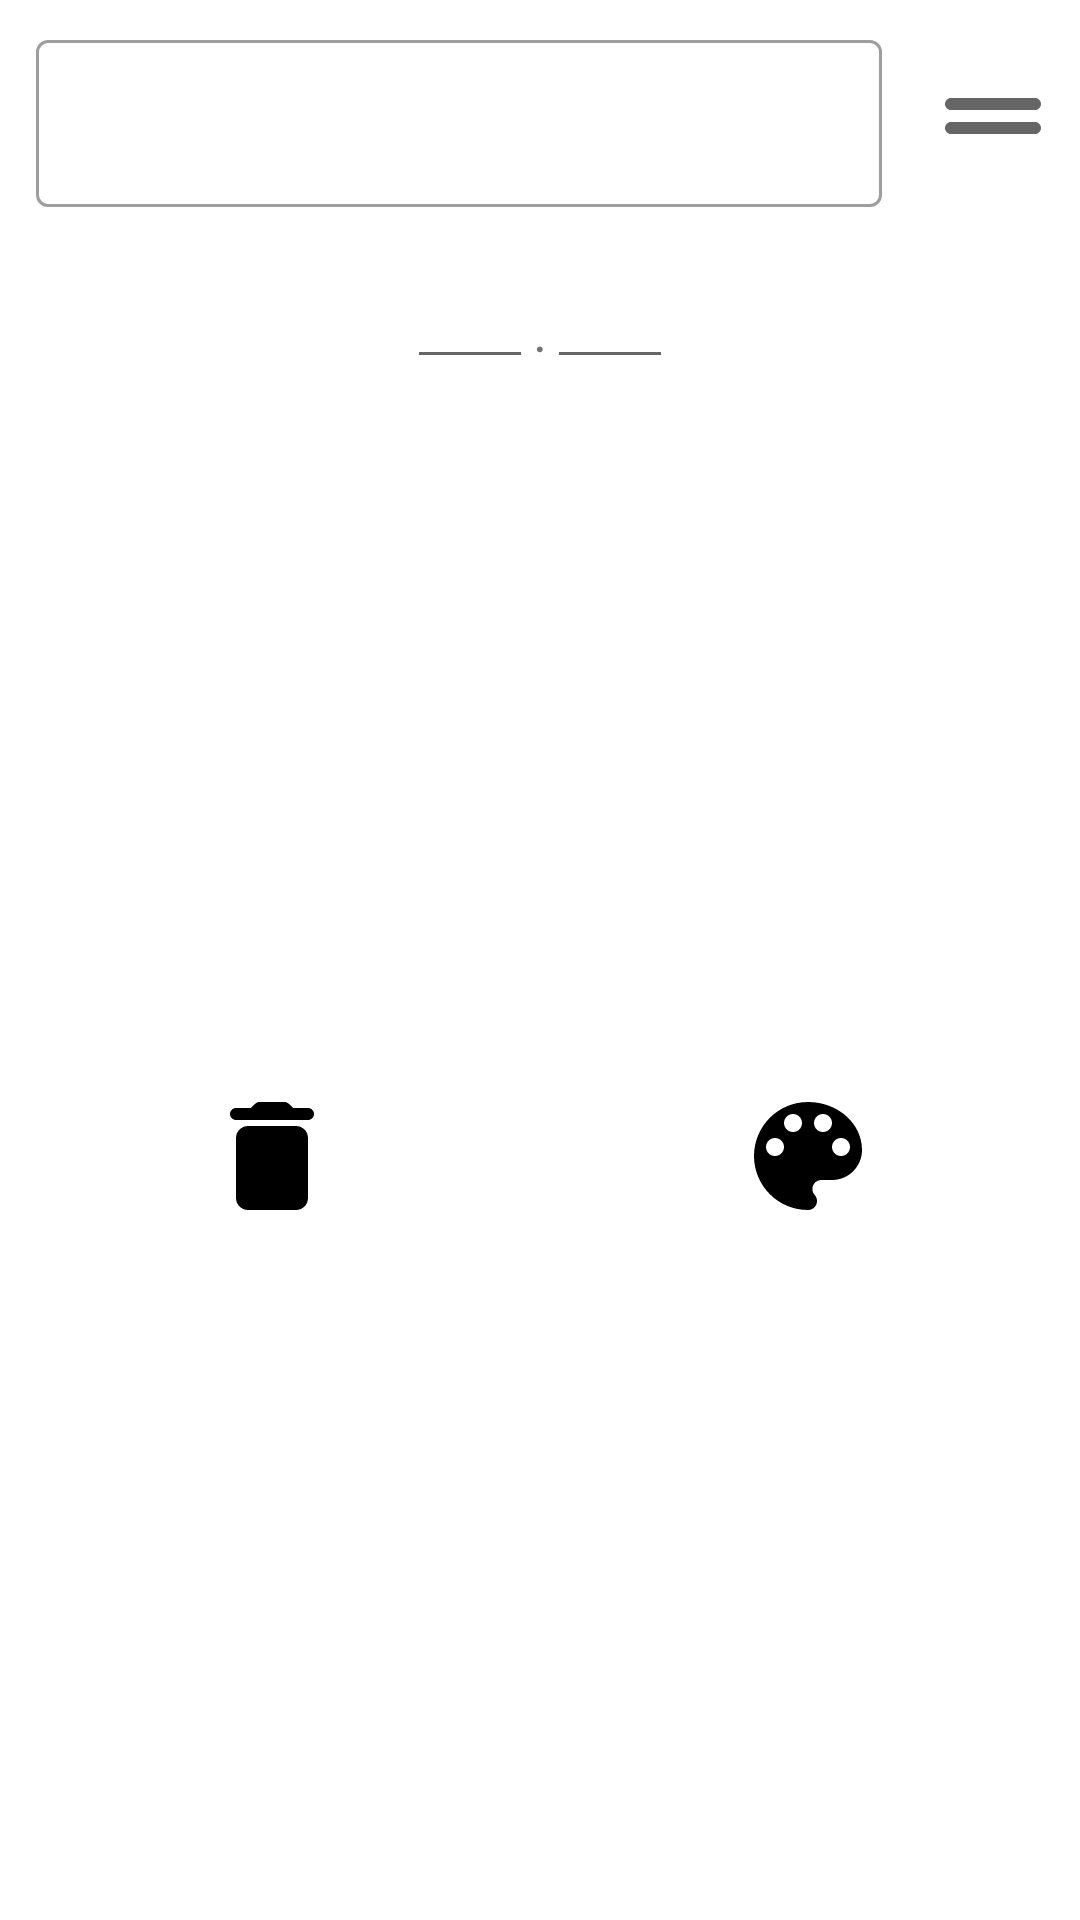

Named icons in this screenshot (1080 × 1920) and their bounding boxes, (x1, y1, x2, y2):
delete: (230, 1102, 314, 1210)
drag handle: (945, 98, 1041, 134)
